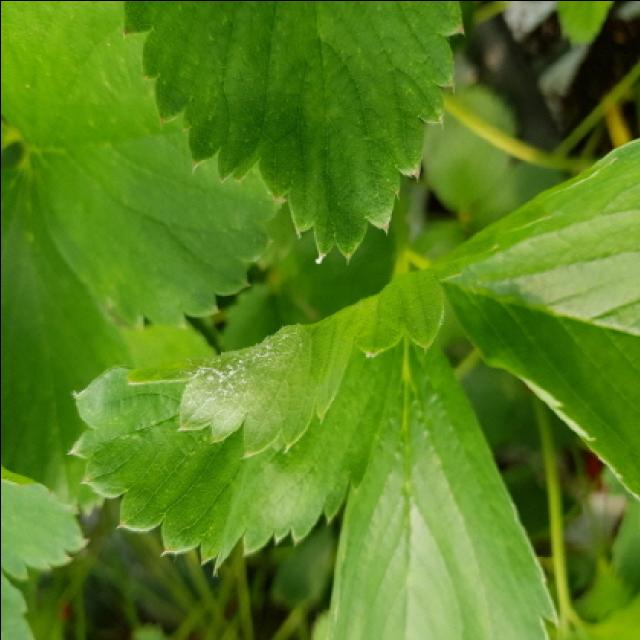Powdery Mildew Leaf: (64, 261, 463, 577)
